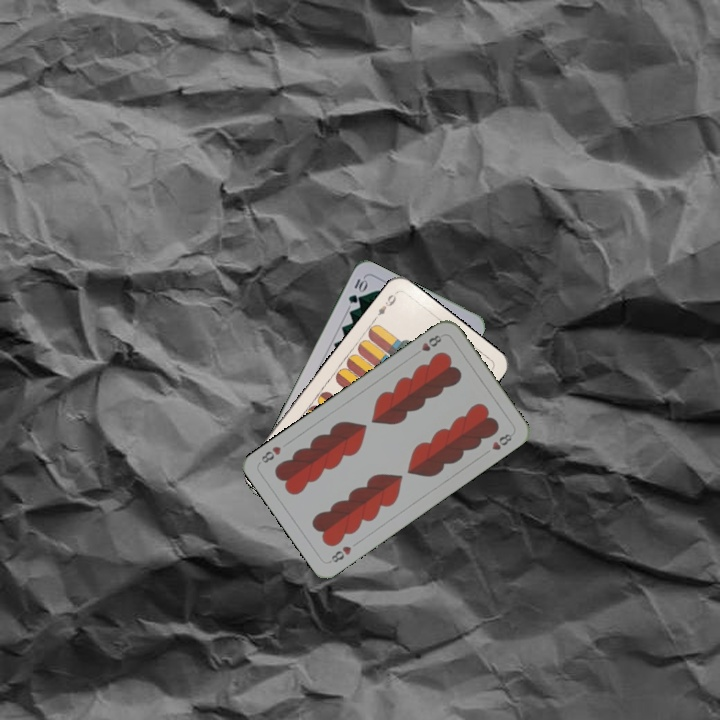E9: (370, 289, 399, 323)
G10: (344, 273, 369, 306)
H8: (410, 331, 444, 358), (325, 542, 354, 566)
